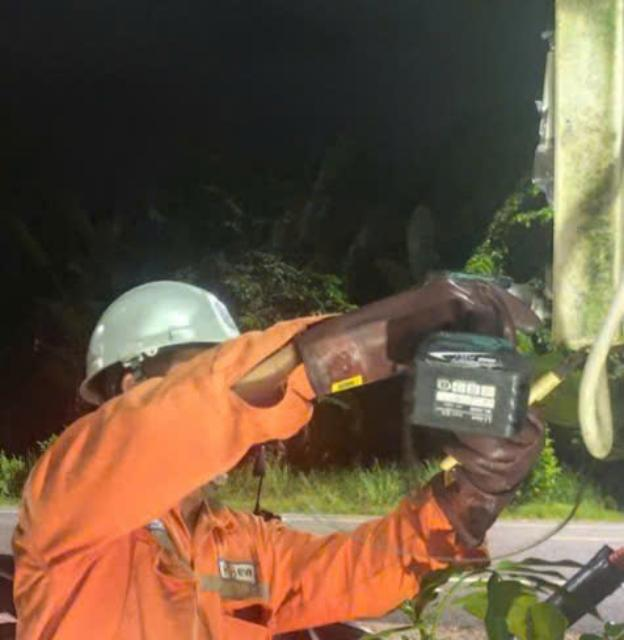gloves: (426, 381, 557, 538), (300, 279, 538, 358)
helmet: (52, 278, 253, 358)
